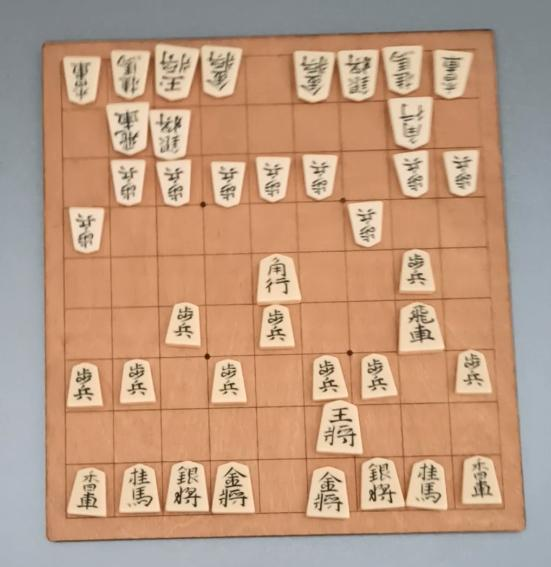board: (60, 50, 505, 520)
